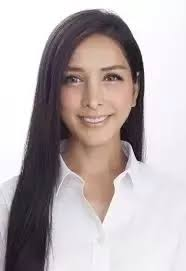middle_eastern_Female: (41, 10, 147, 156)
